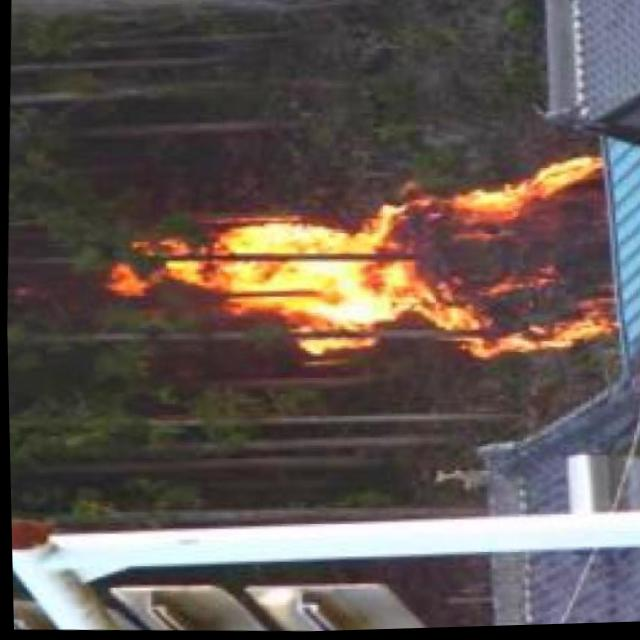Fire: (93, 145, 623, 374)
